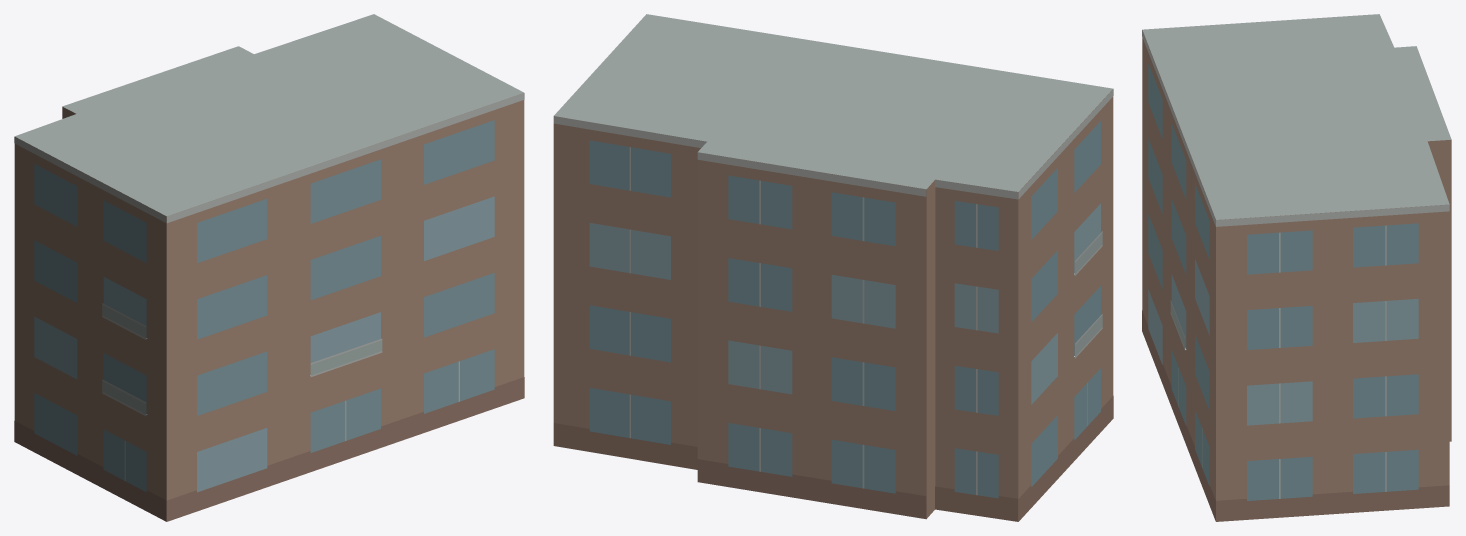
The model's file is survey-upis-32999610.glb.
The picture shows the model from 3 angles, left to right: view 1: azimuth 30°, elevation 25°; view 2: azimuth 150°, elevation 25°; view 3: azimuth 270°, elevation 25°; orthographic projection. The views are drawn at different scales.
Visible parts, largest first — view 1: survey-upis-32999610.tmp; view 2: survey-upis-32999610.tmp; view 3: survey-upis-32999610.tmp.
Boxes of the visible parts, x1,y1,x2,y2 form: survey-upis-32999610.tmp: [14, 14, 524, 521]; survey-upis-32999610.tmp: [553, 14, 1113, 521]; survey-upis-32999610.tmp: [1142, 14, 1451, 521].
Bounding box in the file's own units: 15.67 × 10.7 × 9.95.
